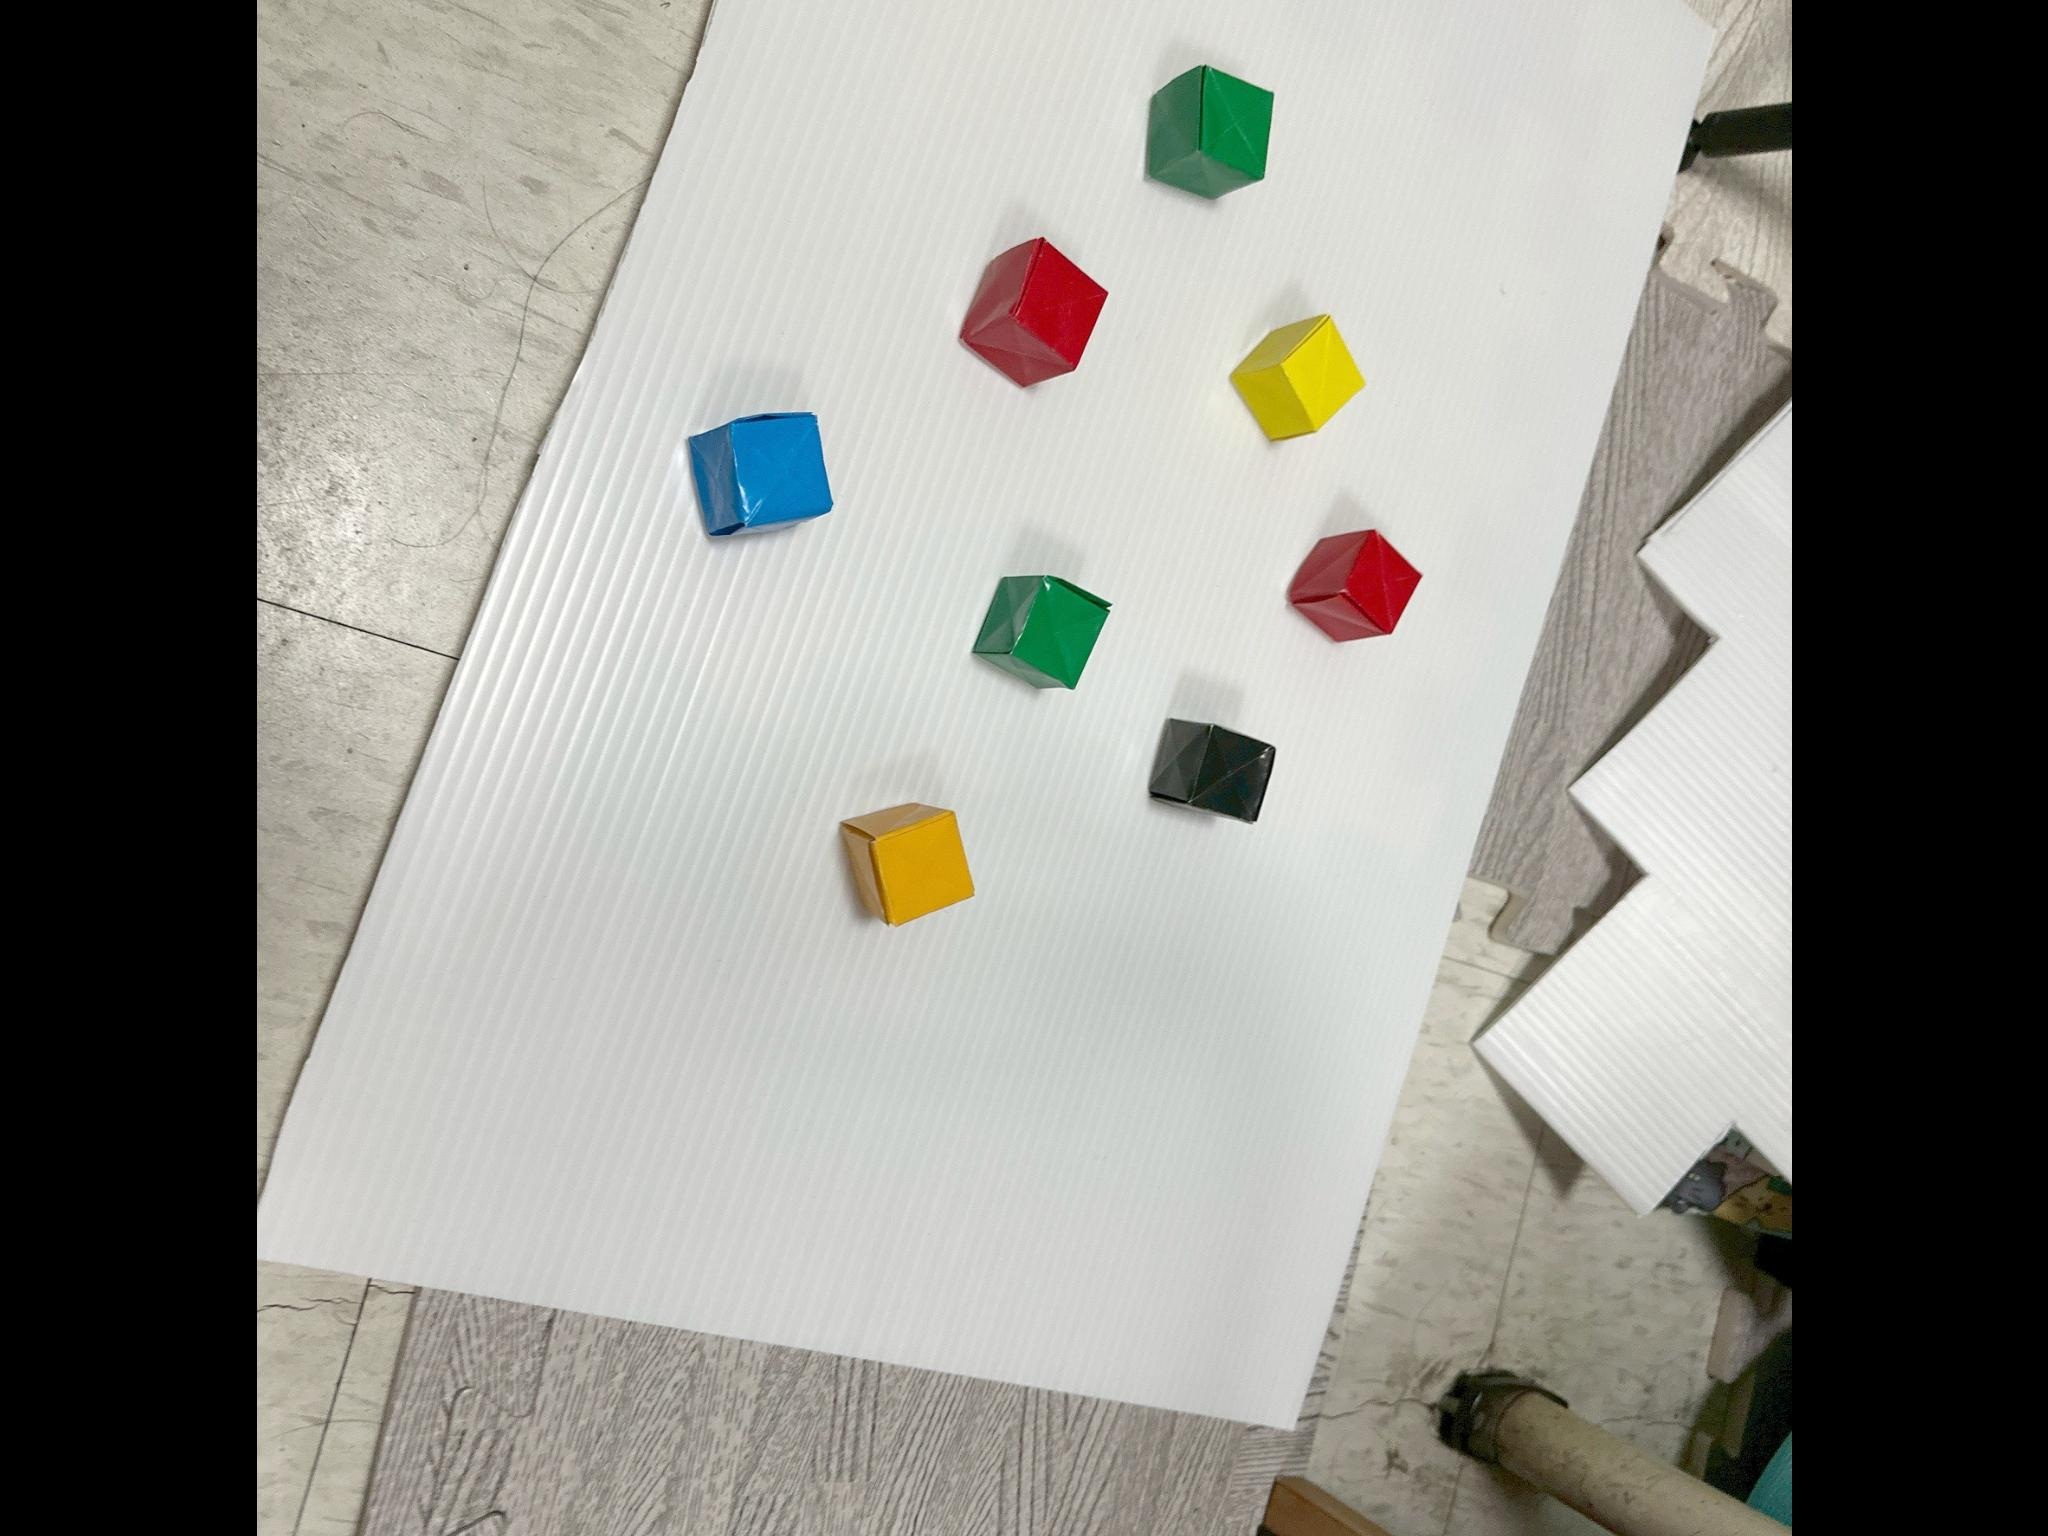base: (959, 239, 1106, 387), (687, 413, 830, 537), (1145, 66, 1272, 198), (1230, 316, 1363, 442), (840, 805, 972, 926), (974, 574, 1109, 689), (1288, 531, 1419, 642), (1148, 720, 1274, 823)
